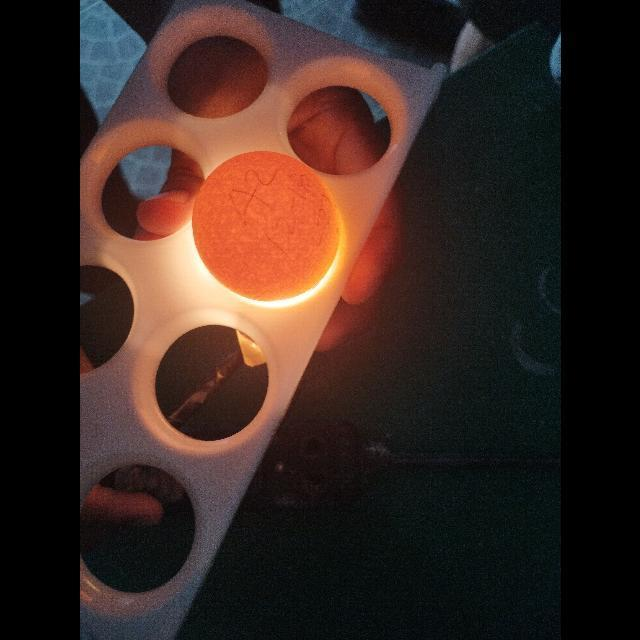Inedible: (177, 147, 353, 309)
